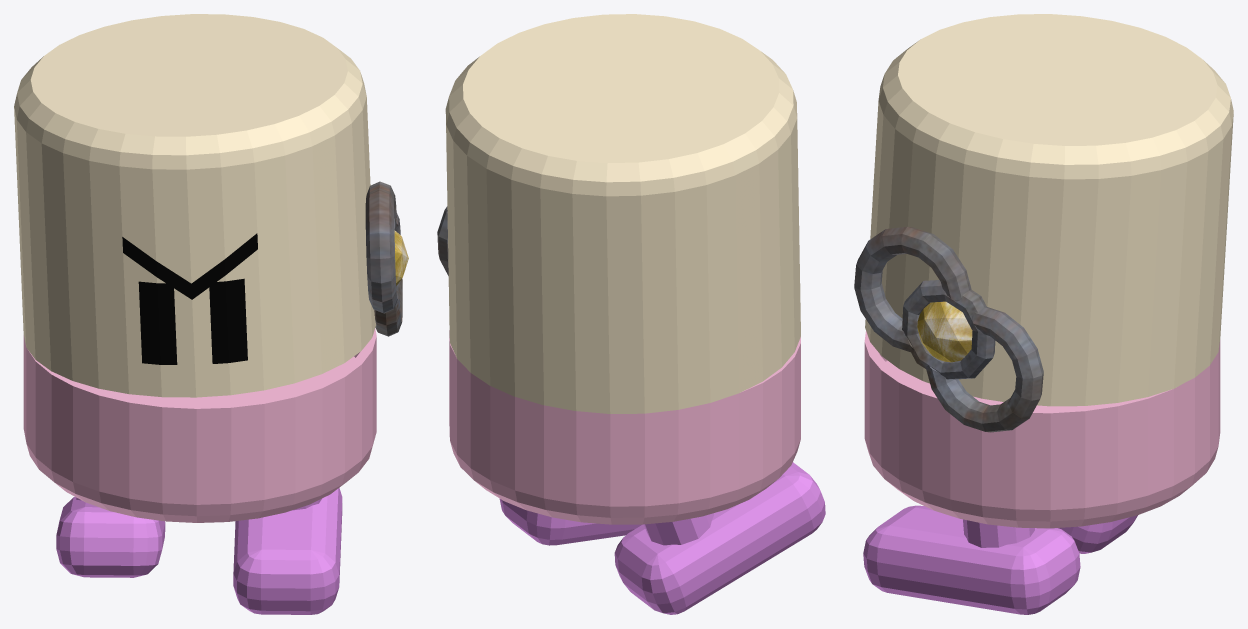
File: Toasters008.obj
3 renders of one model, left to right at view 1: azimuth 30°, elevation 25°; view 2: azimuth 150°, elevation 25°; view 3: azimuth 270°, elevation 25°, orthographic.
Parts seen in each view (by area): view 1: Head, Jaw, LeftLeg, RightLeg, WindupKey; view 2: Head, Jaw, RightLeg, LeftLeg, WindupKey; view 3: Head, Jaw, WindupKey, LeftLeg, RightLeg.
Part boxes in pixels (x1=…): Head: x1=14, y1=14, x2=375, y2=397; Jaw: x1=23, y1=328, x2=376, y2=522; LeftLeg: x1=233, y1=487, x2=342, y2=614; RightLeg: x1=56, y1=497, x2=165, y2=577; WindupKey: x1=365, y1=181, x2=408, y2=336; Head: x1=445, y1=14, x2=800, y2=413; Jaw: x1=449, y1=330, x2=800, y2=524; RightLeg: x1=614, y1=462, x2=825, y2=614; LeftLeg: x1=499, y1=499, x2=641, y2=545; WindupKey: x1=437, y1=206, x2=448, y2=275; Head: x1=865, y1=14, x2=1233, y2=406; Jaw: x1=864, y1=331, x2=1220, y2=528; WindupKey: x1=854, y1=226, x2=1043, y2=432; LeftLeg: x1=863, y1=505, x2=1080, y2=614; RightLeg: x1=1058, y1=515, x2=1137, y2=553.
Bounding box in the file's own units: 118 × 155 × 107.
6 materials, 2 textured.
